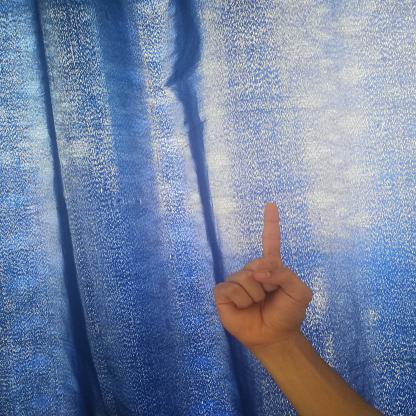BAA: (204, 192, 326, 355)
